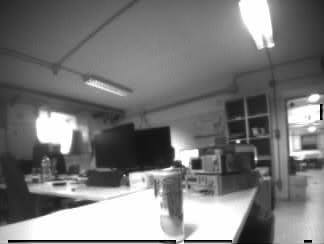Tin can: (155, 171, 184, 242)
